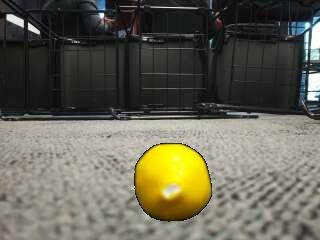lemon: (134, 144, 209, 222)
